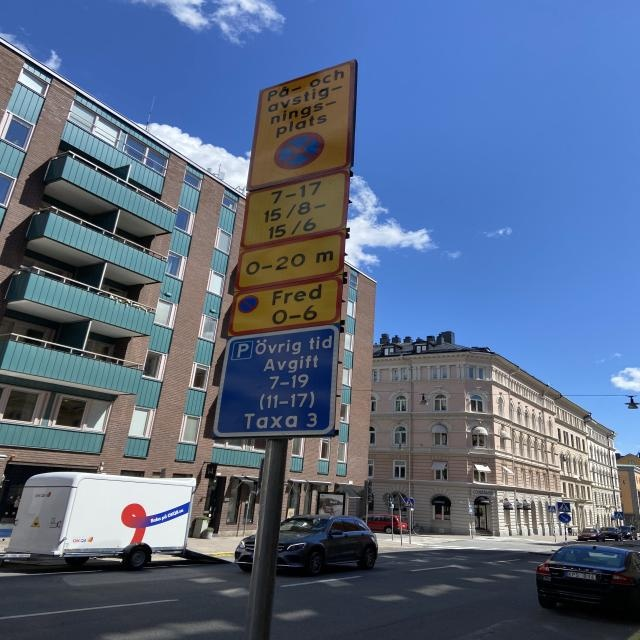avstignnigsplats: (242, 56, 358, 192)
